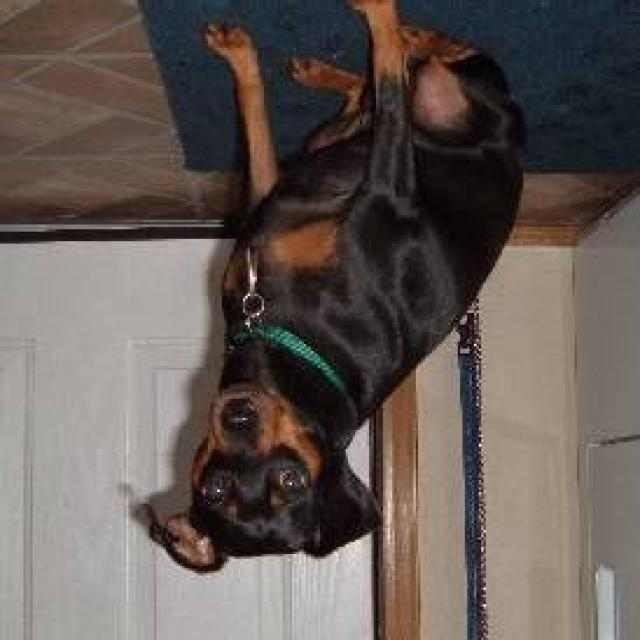dog: (133, 1, 542, 594)
